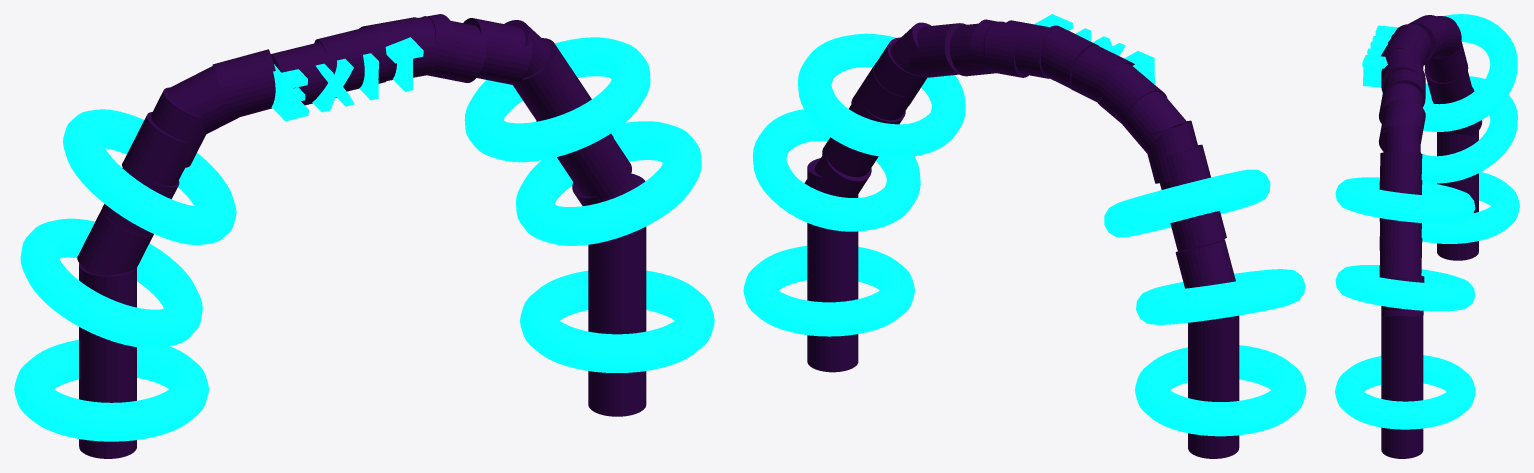
The model's file is exit2.fbx.
The picture shows the model from 3 angles, left to right: view 1: azimuth 30°, elevation 25°; view 2: azimuth 150°, elevation 25°; view 3: azimuth 270°, elevation 25°; orthographic projection. The views are drawn at different scales.
Visible parts, largest first — view 1: Torus.003, Torus.001, Torus.002, Torus.005, Torus, Torus.004, Text, Cylinder.011, Cylinder.018, Cylinder.006, Cylinder.008, Cylinder.025 (+20 smaller); view 2: Torus.005, Torus.001, Torus, Torus.002, Torus.003, Torus.004, Cylinder.025, Cylinder.009, Cylinder.006, Cylinder.011, Cylinder.017, Cylinder.013 (+21 smaller); view 3: Torus.001, Torus.004, Torus.002, Torus.005, Torus.003, Torus, Cylinder.026, Cylinder.025, Cylinder.022, Cylinder.018, Cylinder.023, Text (+21 smaller).
Boxes of the visible parts, x1,y1,x2,y2 form: Torus.003: (20,218,202,348); Torus.001: (520,270,714,372); Torus.002: (516,121,701,245); Torus.005: (464,37,650,162); Torus: (14,339,208,441); Torus.004: (63,109,236,244); Text: (271,37,423,121); Cylinder.011: (212,49,275,116); Cylinder.018: (513,38,582,119); Cylinder.006: (77,208,153,275); Cylinder.008: (122,112,191,186); Cylinder.025: (588,262,646,324); Torus.005: (798,33,965,157); Torus.001: (743,246,914,336); Torus: (1135,345,1306,436); Torus.002: (752,109,920,231); Torus.003: (1136,269,1305,324); Torus.004: (1104,169,1270,237); Cylinder.025: (807,238,858,291); Cylinder.009: (1120,92,1187,154); Cylinder.006: (1175,239,1235,288); Cylinder.011: (1096,64,1167,122); Cylinder.017: (909,23,966,77); Cylinder.013: (1041,25,1098,89); Torus.001: (1335,355,1475,429); Torus.004: (1382,14,1517,131); Torus.002: (1335,265,1475,311); Torus.005: (1335,177,1475,223); Torus.003: (1382,76,1517,183); Torus: (1421,172,1519,243); Cylinder.026: (1381,324,1423,370); Cylinder.025: (1381,347,1423,392); Cylinder.022: (1379,236,1422,278); Cylinder.018: (1379,151,1422,191); Cylinder.023: (1381,427,1423,458); Text: (1362,25,1398,87).
Size of the model in its own units: 954 by 620 by 328.
